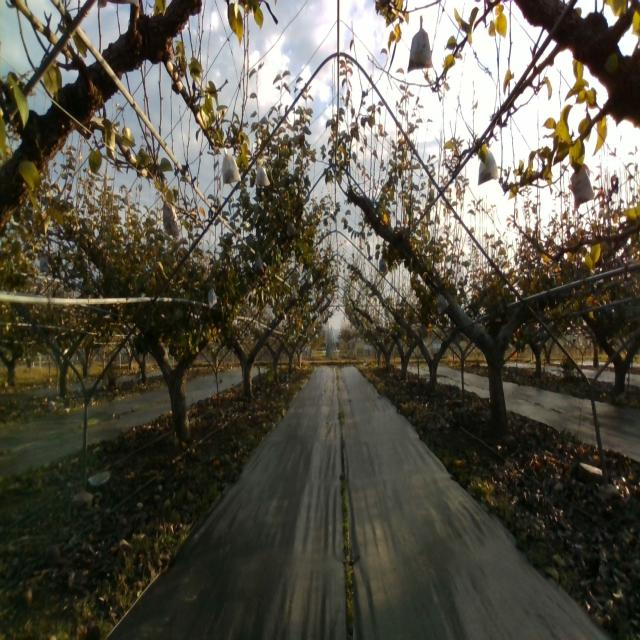pearbags: (407, 15, 433, 72), (570, 163, 594, 209), (160, 194, 180, 238), (222, 146, 241, 186), (477, 151, 498, 185), (255, 164, 271, 190), (436, 292, 450, 314), (208, 287, 218, 309)
